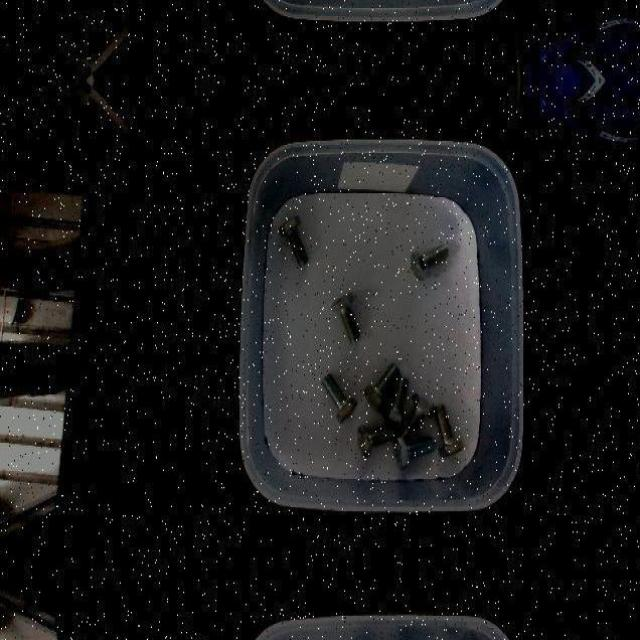screw: (321, 370, 358, 424), (364, 361, 399, 411), (434, 404, 464, 458), (279, 214, 309, 267), (331, 292, 360, 344), (357, 423, 400, 457), (393, 434, 434, 468), (382, 374, 408, 427), (411, 242, 448, 279)
